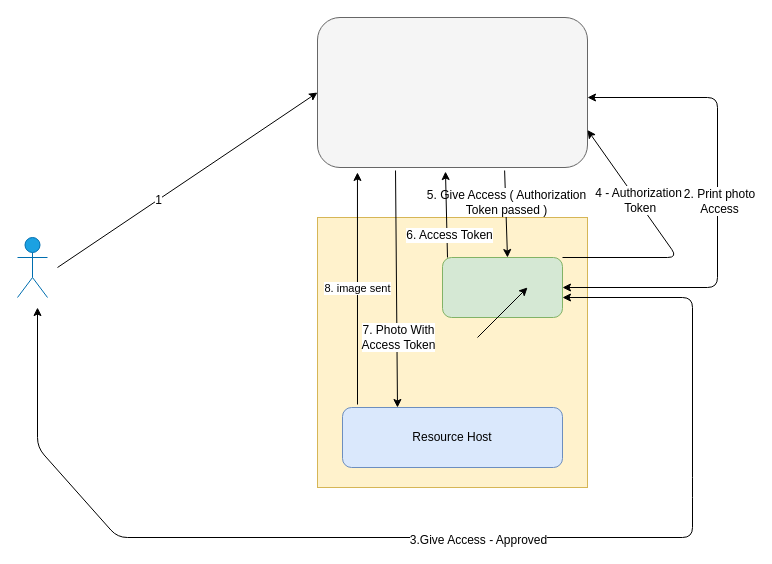
The diagram is 772 pixels wide and 564 high, and some of its shapes have lost their labels. The shapes that lost their labels are listed below. From the top down, each one's centre as x and y in pixels, then its label:
At point (452, 92): "Photo Print Service - Upload from Cloud - Upload from Machine - print - Pay".
At point (502, 287): "Authorization Server".
